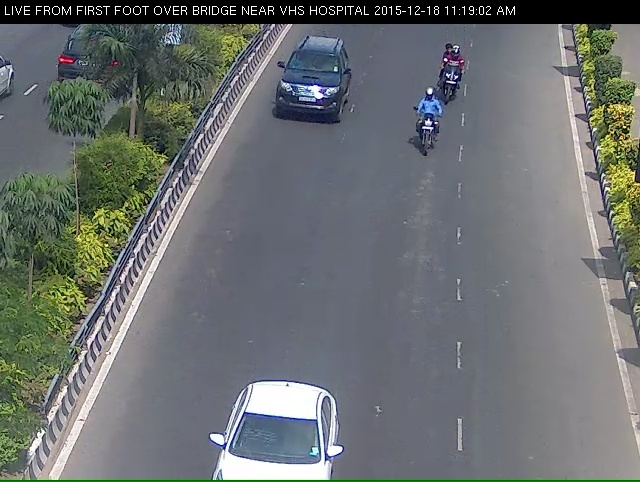Car: (207, 412, 335, 480), (270, 41, 348, 137)
Person: (435, 47, 468, 113), (412, 98, 438, 162)
